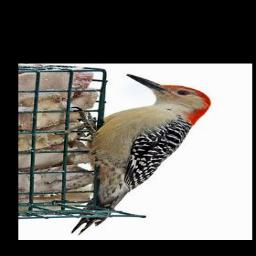Woodpecker: (69, 71, 211, 236)
